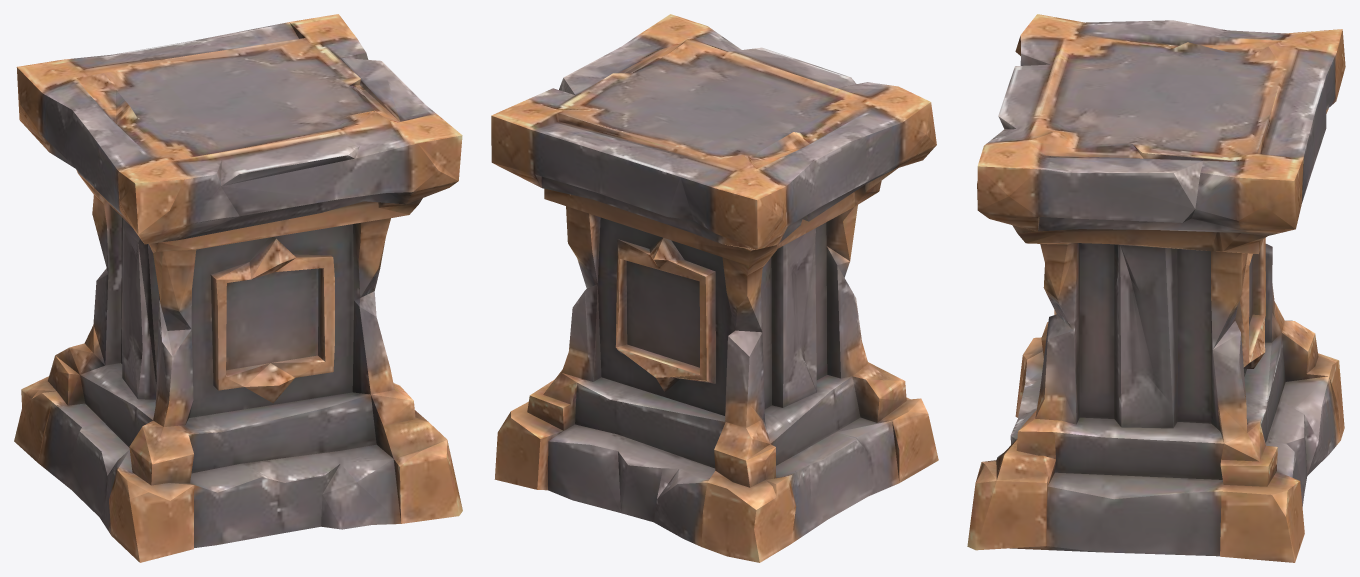
File: hub_collectible_pedestal_b.glb
The picture shows the model from 3 angles, left to right: view 1: azimuth 30°, elevation 25°; view 2: azimuth 150°, elevation 25°; view 3: azimuth 270°, elevation 25°; orthographic projection. The views are drawn at different scales.
Visible parts, largest first — view 1: body; view 2: body; view 3: body.
Boxes of the visible parts, x1,y1,x2,y2 form: body: (14, 14, 462, 562); body: (491, 14, 938, 562); body: (967, 14, 1345, 562).
Bounding box in the file's own units: 0.9111 × 1 × 0.8655.
Materials: 1 (1 with a texture image).
